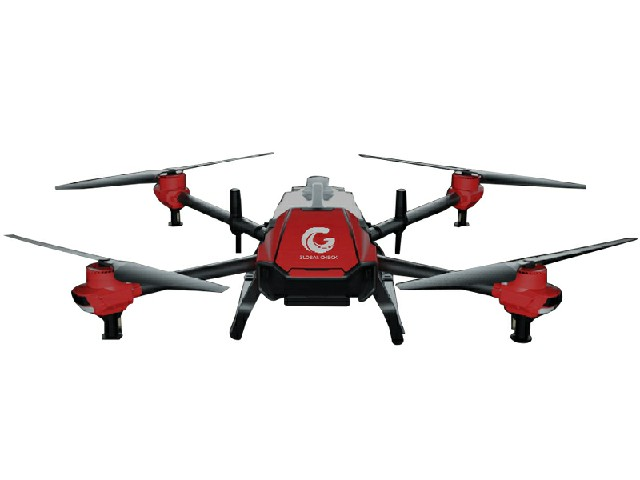maybay_khongnguoilai: (17, 148, 634, 348)
